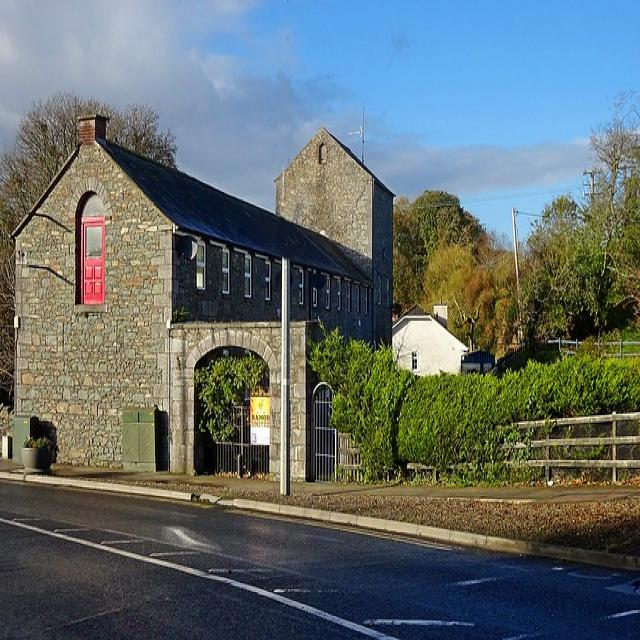Normal_building: (8, 110, 400, 494)
